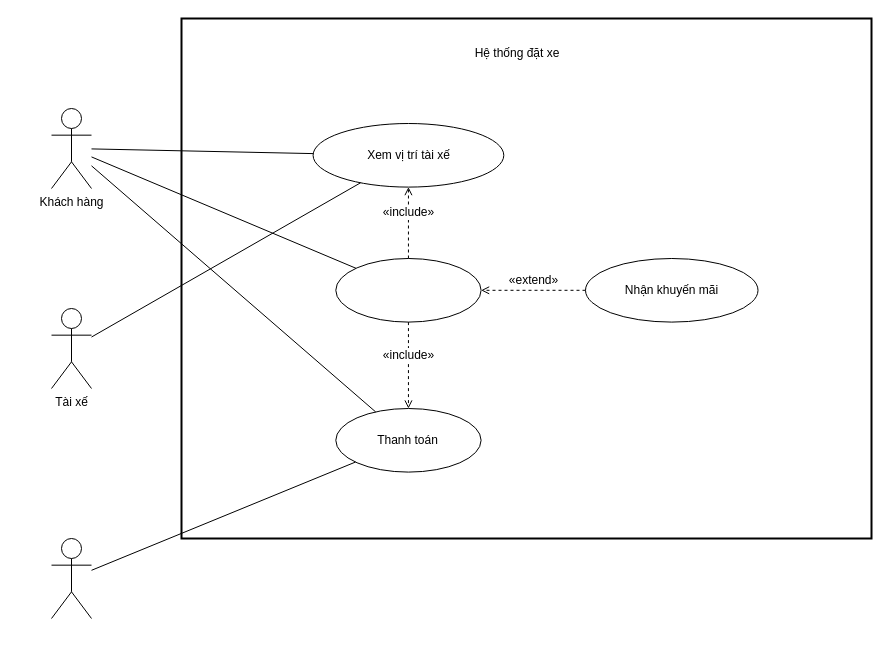
The diagram is 890 pixels wide and 656 high, and some of its shapes have lost their labels. The shapes that lost their labels are listed below. From the top down, each one's centre as x and y in pixels, then its label:
the point at 408,290: Đặt xe
the point at 71,578: Hệ thống thanh toán
